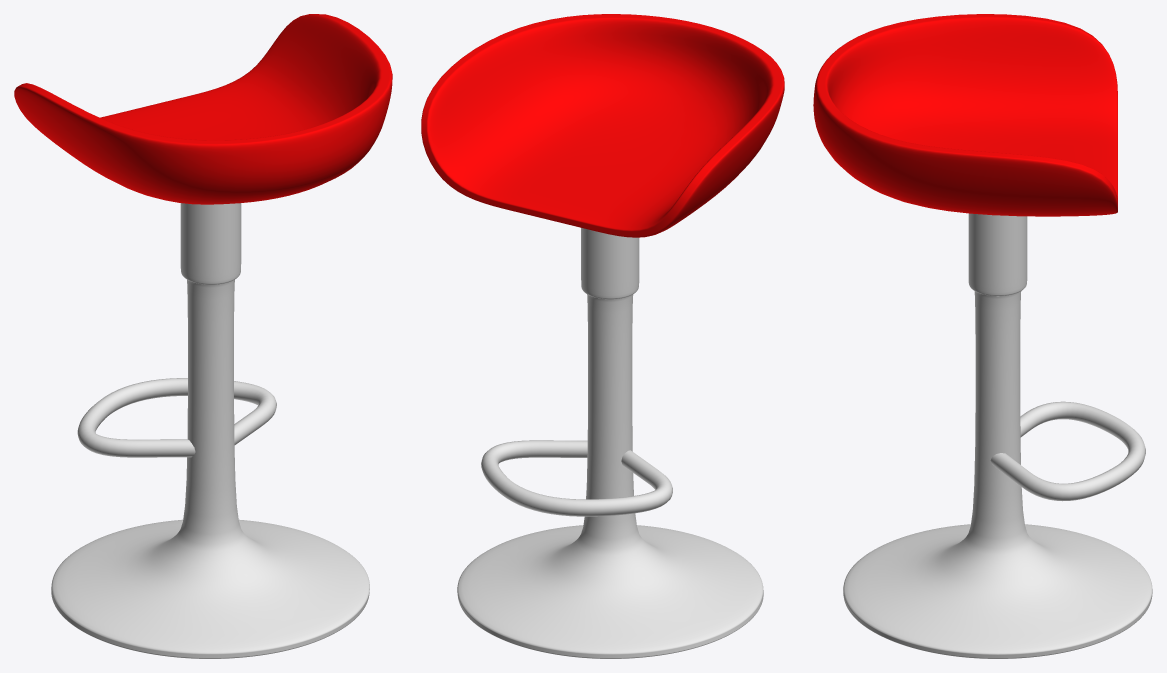
The model's file is bar_stool.glb.
The picture shows the model from 3 angles, left to right: view 1: azimuth 30°, elevation 25°; view 2: azimuth 150°, elevation 25°; view 3: azimuth 270°, elevation 25°; orthographic projection. The views are drawn at different scales.
Parts seen in each view (by area): view 1: Cylinder.025_1, Cube_0, NurbsCurve.001_3; view 2: Cube_0, Cylinder.025_1, NurbsCurve.001_3; view 3: Cube_0, Cylinder.025_1, NurbsCurve.001_3.
Boxes of the visible parts, bbox=[...] form: Cylinder.025_1: bbox=[51, 203, 369, 658]; Cube_0: bbox=[14, 14, 392, 204]; NurbsCurve.001_3: bbox=[77, 378, 276, 457]; Cube_0: bbox=[421, 14, 784, 237]; Cylinder.025_1: bbox=[457, 228, 763, 658]; NurbsCurve.001_3: bbox=[481, 440, 672, 516]; Cube_0: bbox=[813, 14, 1117, 216]; Cylinder.025_1: bbox=[843, 213, 1152, 658]; NurbsCurve.001_3: bbox=[990, 401, 1145, 501].
Bounding box in the file's own units: 0.3013 × 0.4981 × 0.2992.
